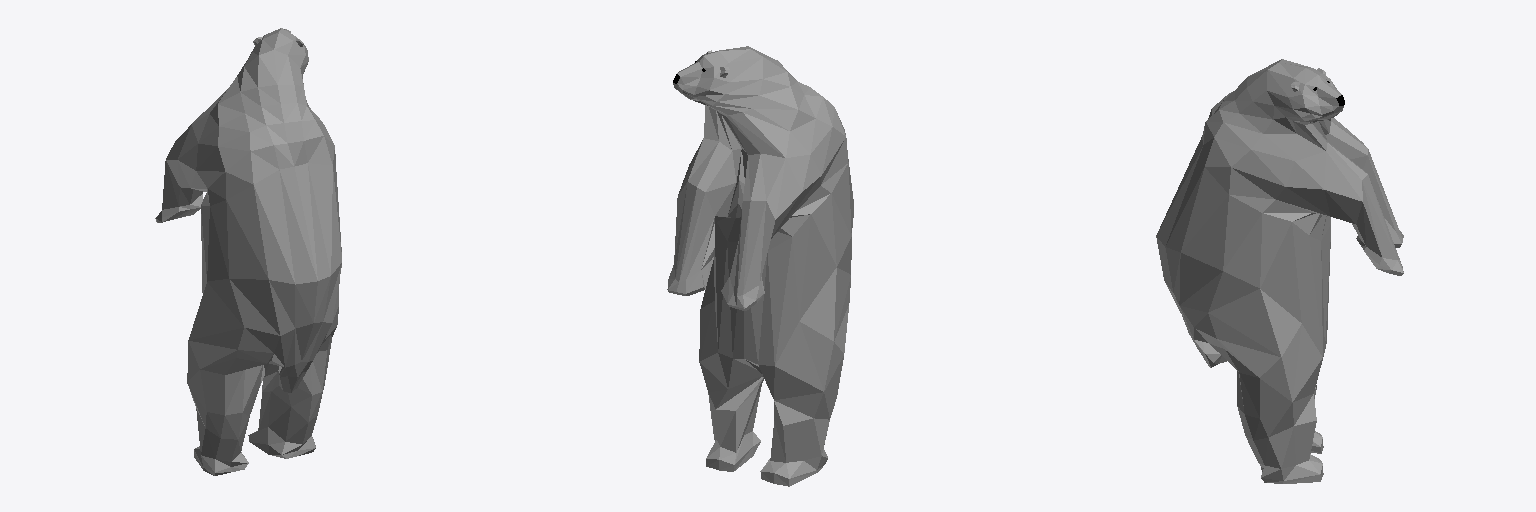
Rendered from bear_animation.obj.
The picture shows the model from 3 angles: view 1: azimuth 30°, elevation 25°; view 2: azimuth 150°, elevation 25°; view 3: azimuth 270°, elevation 25°; orthographic projection.
Visible parts, largest first — view 1: bear_Cube.001; view 2: bear_Cube.001; view 3: bear_Cube.001.
Part boxes in pixels (left/top/right/bottom): bear_Cube.001: left=155, top=28, right=341, bottom=475; bear_Cube.001: left=667, top=46, right=853, bottom=486; bear_Cube.001: left=1156, top=59, right=1403, bottom=483.
Size of the model in its own units: 1.98 by 5.83 by 3.18.